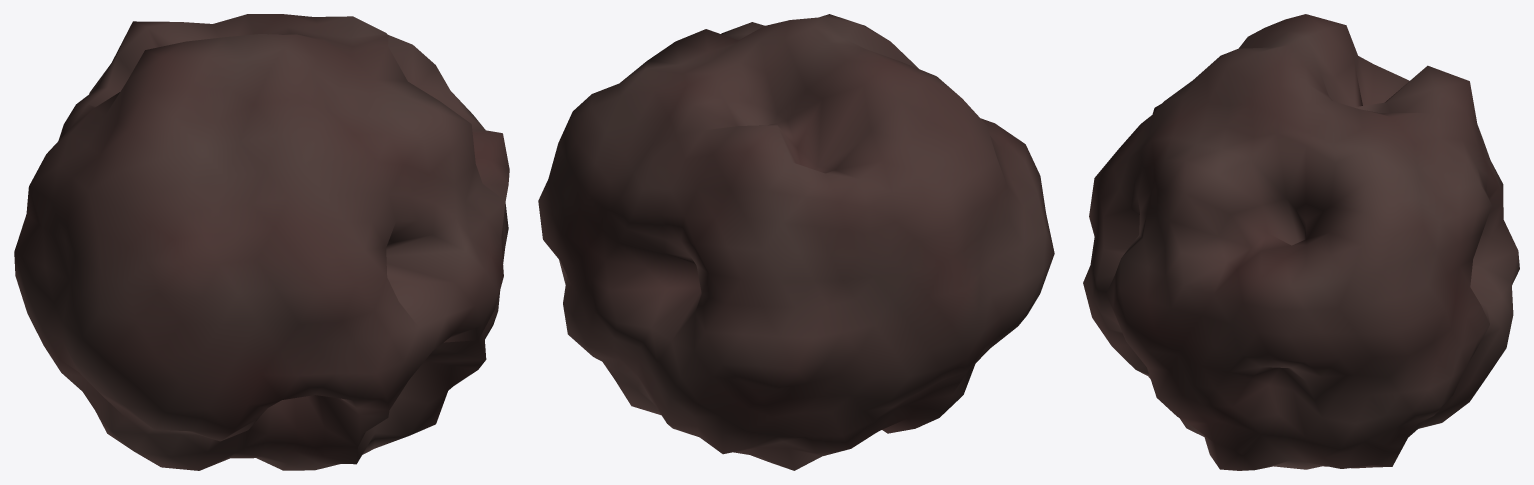
Rendered from asteroid_14.glb.
The picture shows the model from 3 angles, left to right: view 1: azimuth 30°, elevation 25°; view 2: azimuth 150°, elevation 25°; view 3: azimuth 270°, elevation 25°; orthographic projection. The views are drawn at different scales.
Visible parts, largest first — view 1: Asteroid_14; view 2: Asteroid_14; view 3: Asteroid_14.
Boxes of the visible parts, x1=… form: Asteroid_14: x1=14, y1=14, x2=509, y2=470; Asteroid_14: x1=538, y1=14, x2=1054, y2=470; Asteroid_14: x1=1083, y1=14, x2=1519, y2=470.
Bounding box in the file's own units: 1.98 × 1.84 × 1.83.
